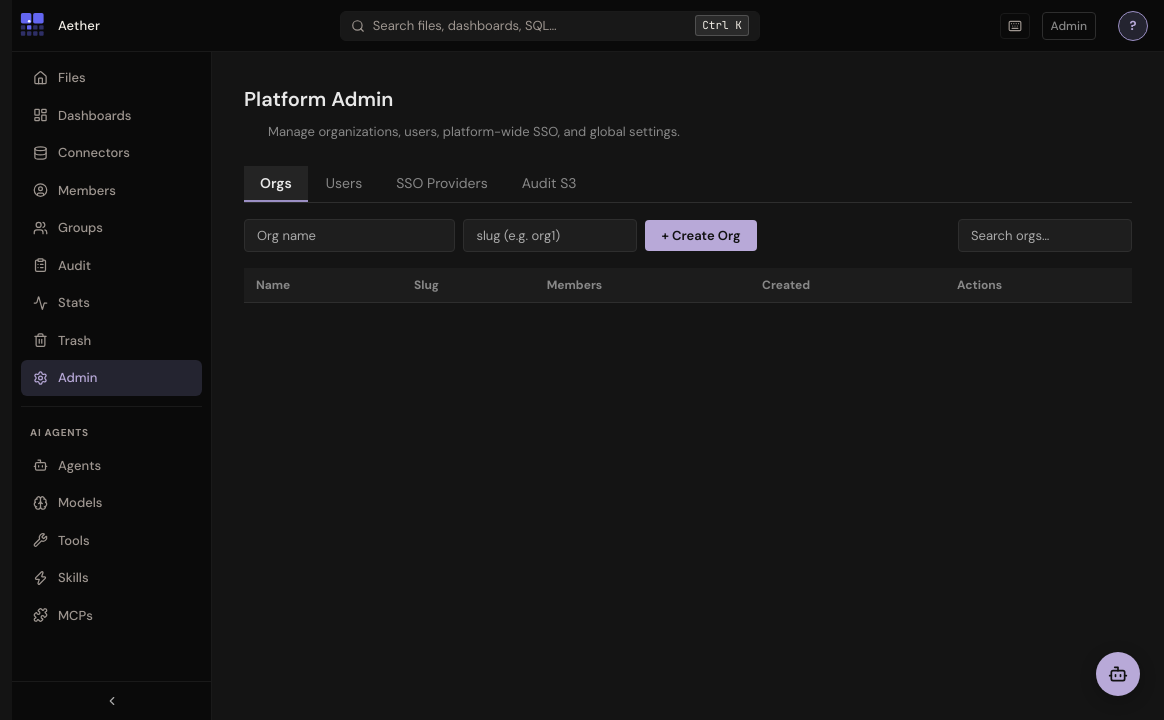
Test: shows the Debug Claims empty state before a capture exists
Click the tab "SSO Providers". click: (442, 184)
box: [380,166,504,202]
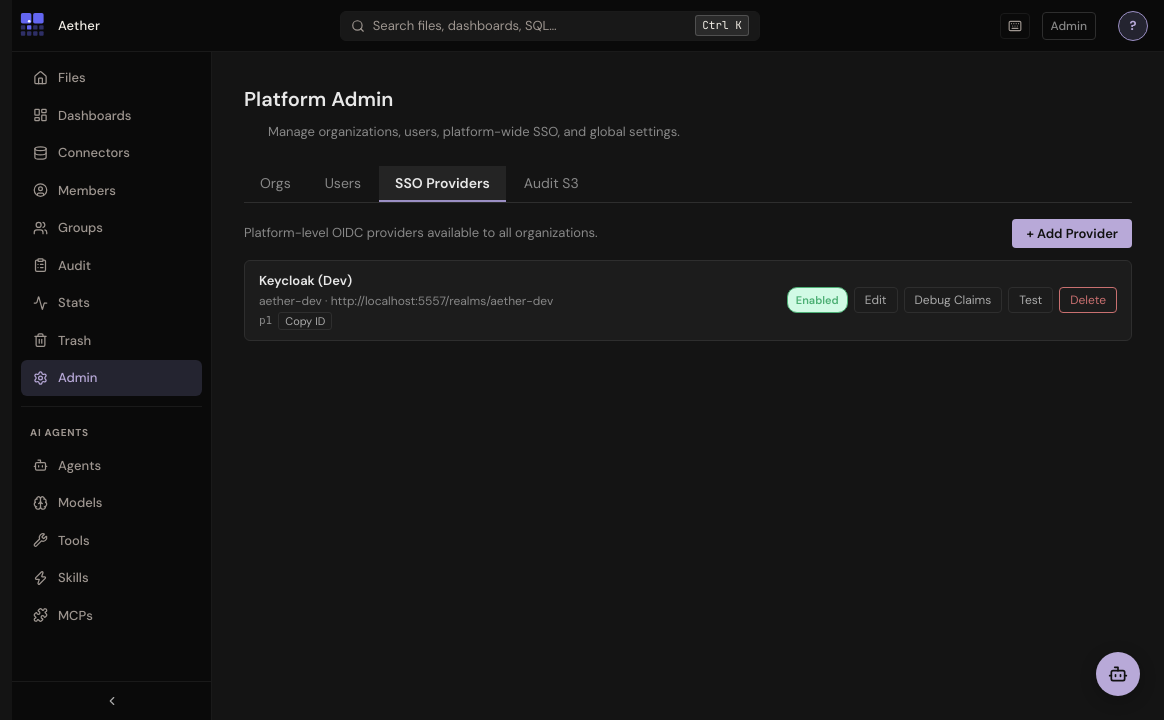
Click the button "Debug Claims". click: (953, 300)
box: [904,287,1002,313]
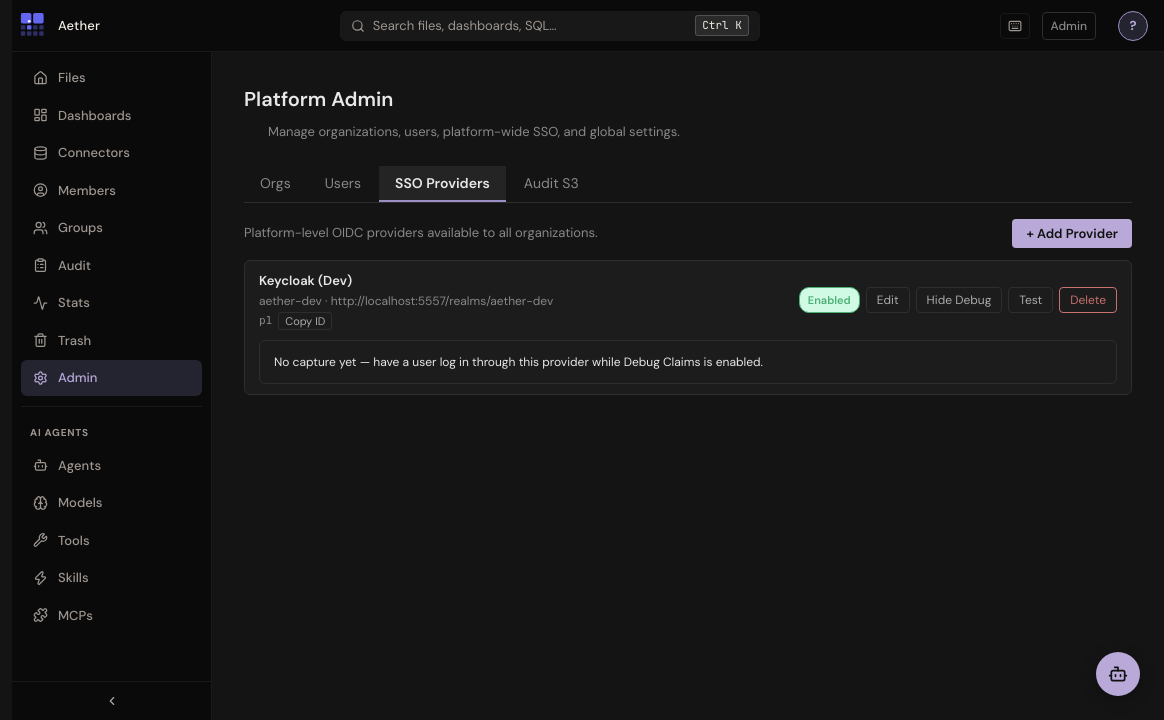
Check: the text "No capture yet" is shown, box [274,354,763,370]
